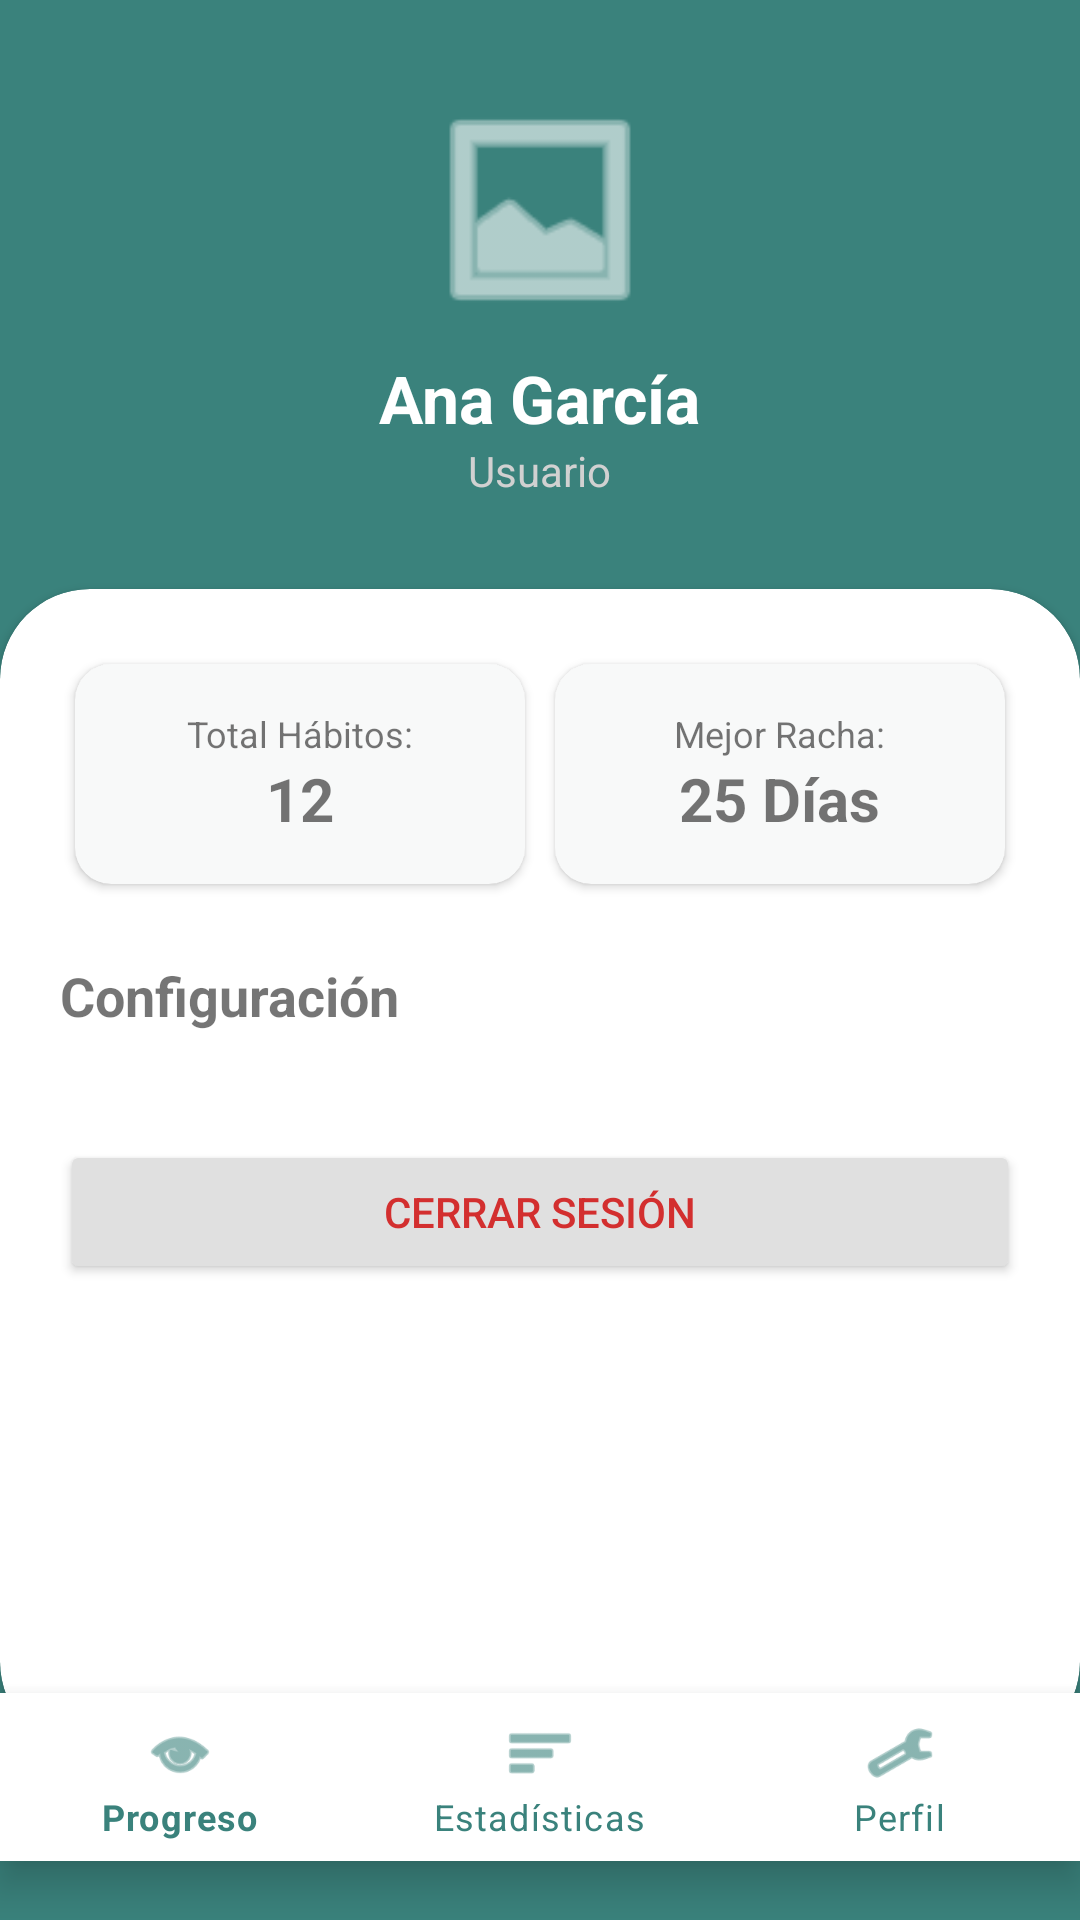

Named icons in this screenshot (1080*1920) and their centers, point (x, y):
gallery: point (540, 210)
